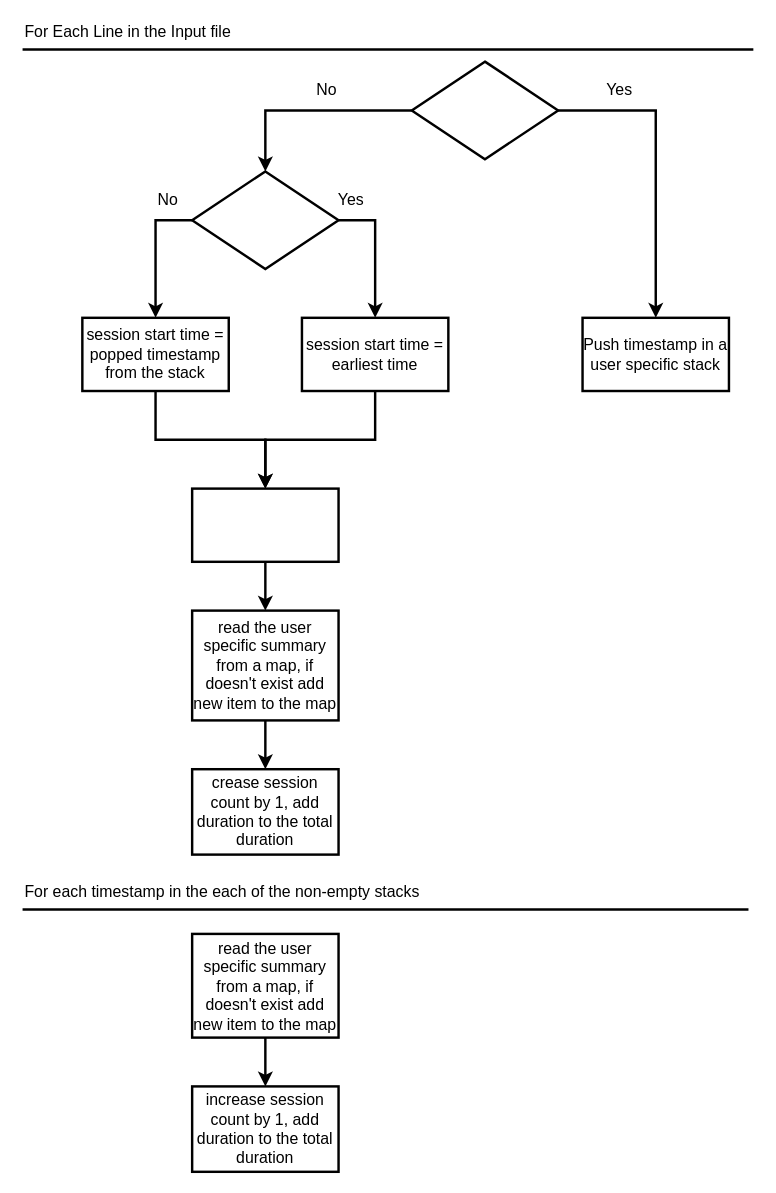
This 776x1193 diagram has some shape labels left out. Here are the shapes that lost their labels. From the top down, the centre of each, then its label:
At point 484,110: "Start Indicator?".
At point 264,220: "is stack for this user empty?".
At point 264,524: "duration = end time - start time".
